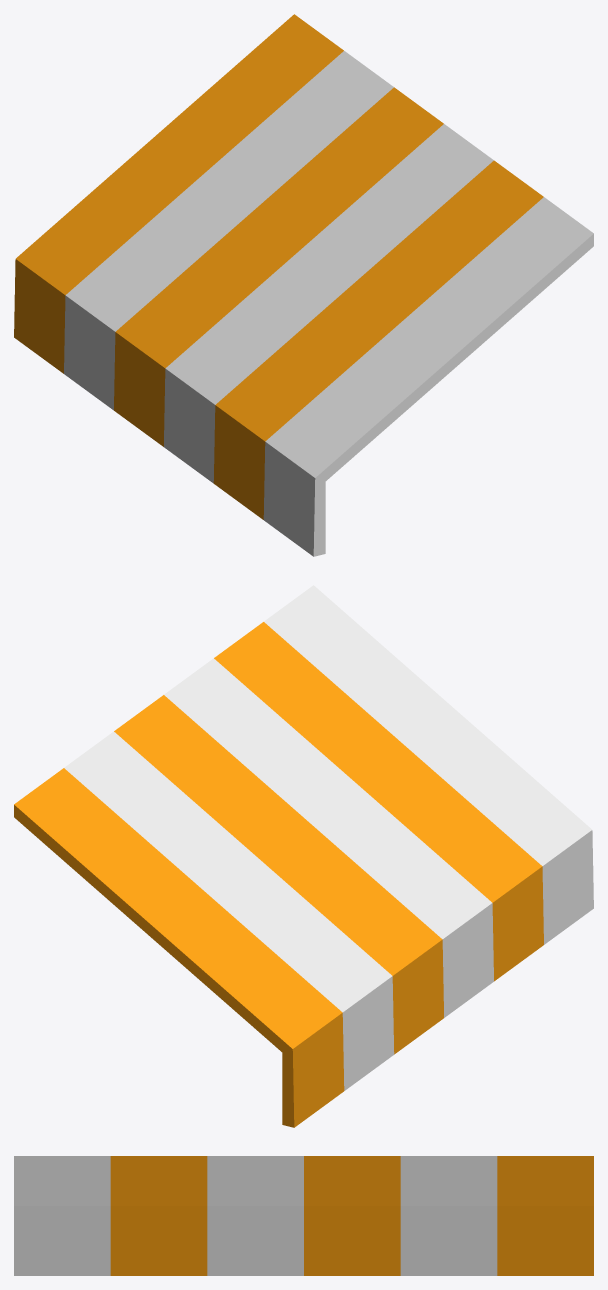
File: Awning_2_I.fbx
The picture shows the model from 3 angles, top to bottom: view 1: azimuth 30°, elevation 25°; view 2: azimuth 150°, elevation 25°; view 3: azimuth 270°, elevation 25°; orthographic projection. The views are drawn at different scales.
Parts seen in each view (by area): view 1: Awning_2_I; view 2: Awning_2_I; view 3: Awning_2_I.
Boxes of the visible parts, x1,y1,x2,y2 form: Awning_2_I: [14, 14, 593, 556]; Awning_2_I: [14, 585, 593, 1127]; Awning_2_I: [14, 1156, 593, 1275].
Bounding box in the file's own units: 111 × 96.45 × 205.
